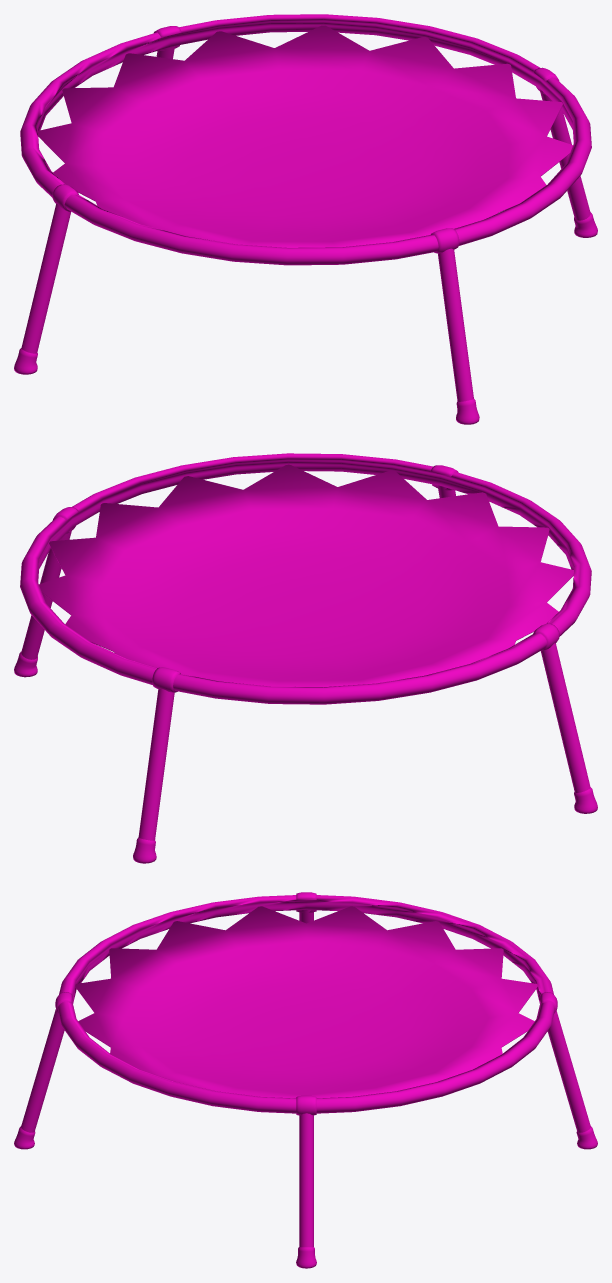
Rendered from Butut.fbx.
3 renders of one model, top to bottom at view 1: azimuth 30°, elevation 25°; view 2: azimuth 150°, elevation 25°; view 3: azimuth 270°, elevation 25°, orthographic. The views are drawn at different scales.
Visible parts, largest first — view 1: Batut; view 2: Batut; view 3: Batut.
Part boxes in pixels (x1,y1,x2,y2): Batut: [14, 14, 597, 424]; Batut: [14, 453, 597, 863]; Batut: [14, 892, 597, 1268].
Size of the model in its own units: 1148 by 325 by 1147.
